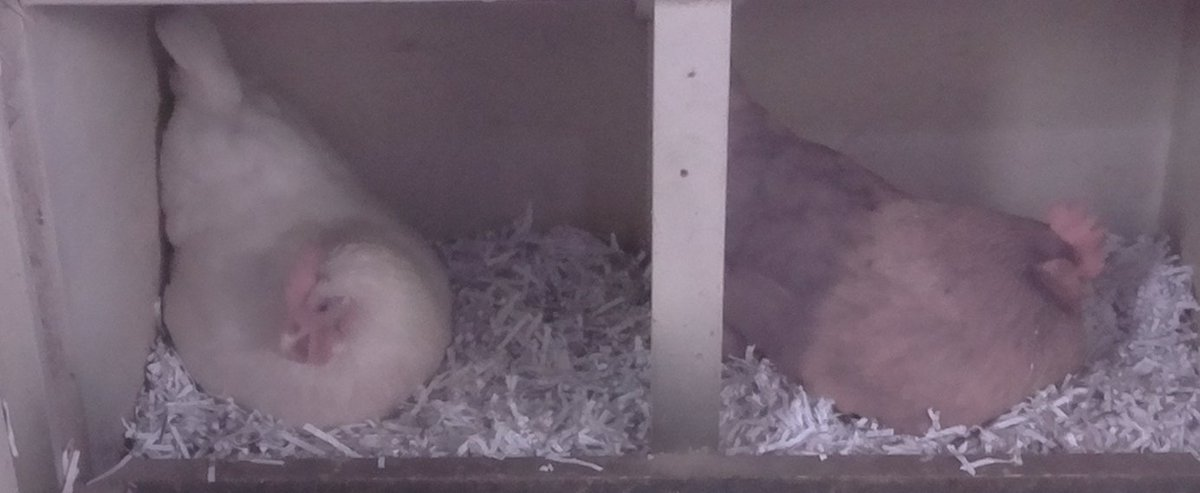hen: (730, 62, 1119, 438), (150, 10, 455, 435)
